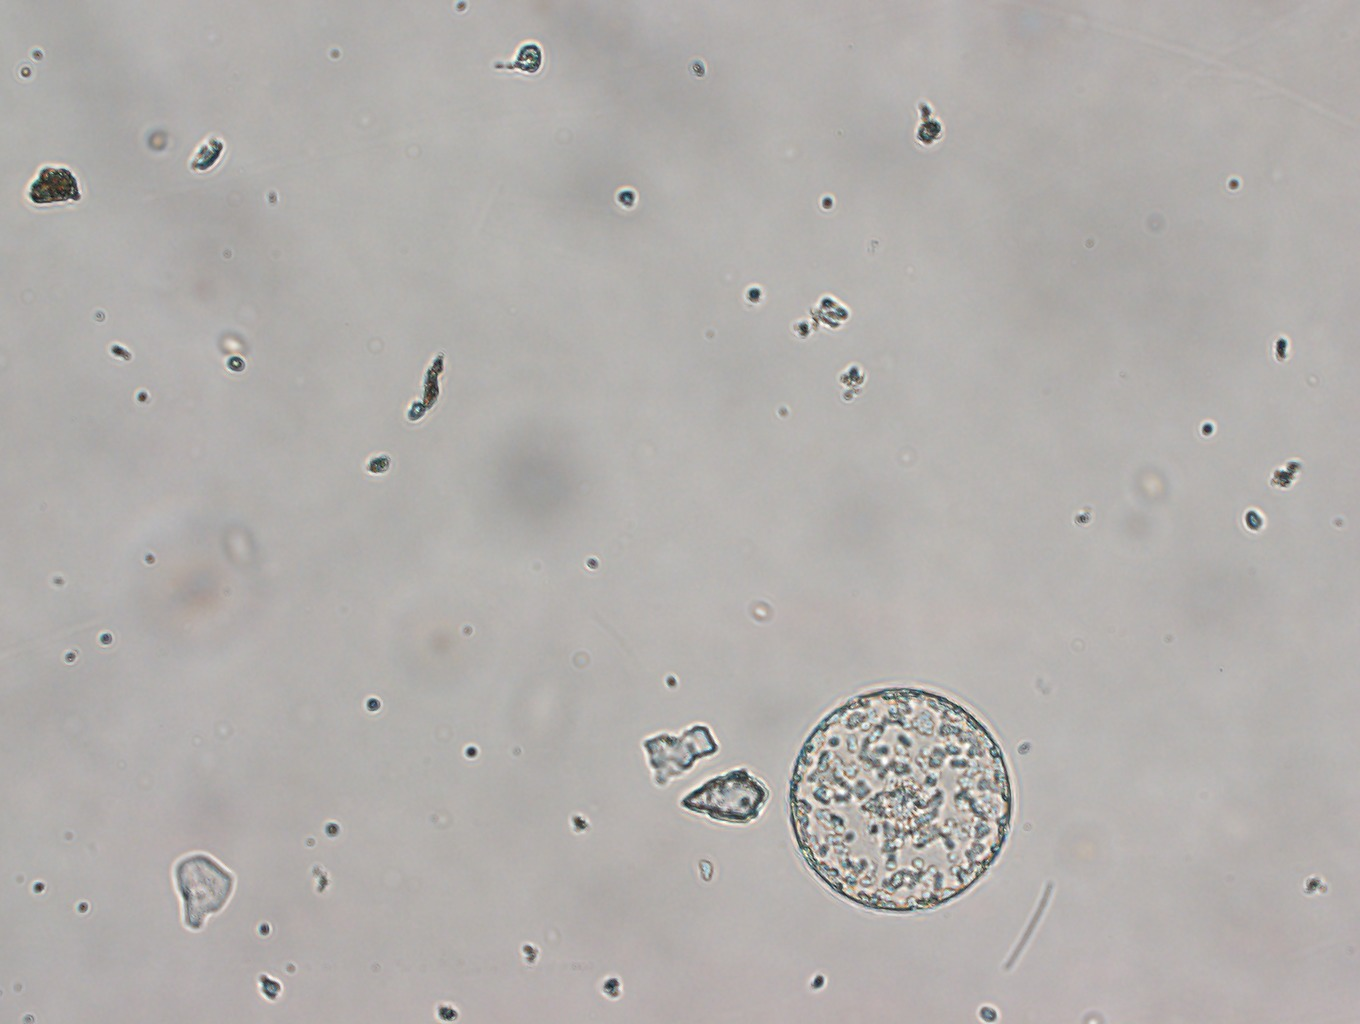coscinodiscus: (787, 684, 1014, 914)
